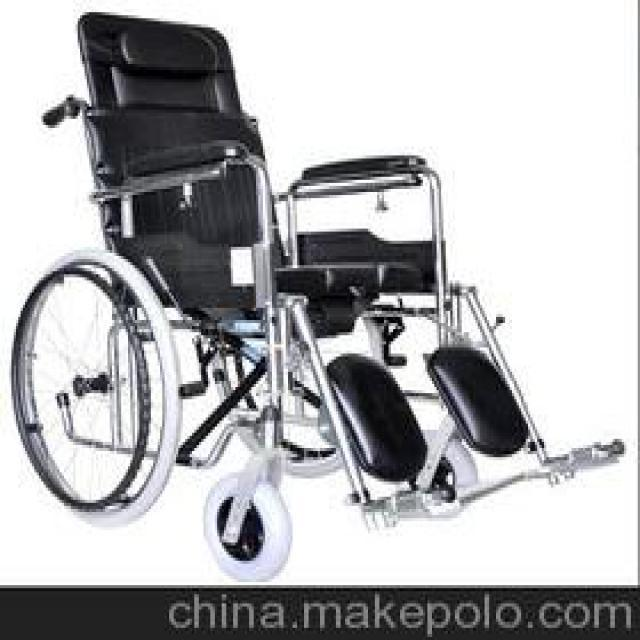wheelchairs: (15, 7, 617, 581)
